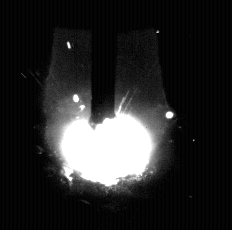arame: (91, 0, 116, 124)
poca: (45, 0, 166, 230)
